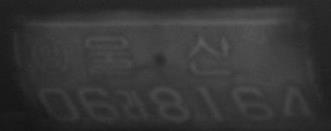0: (37, 87, 80, 121)
1: (192, 84, 229, 122)
4: (282, 85, 316, 125)
6: (231, 84, 272, 122), (80, 84, 119, 123)
8: (150, 86, 191, 123)
라: (120, 88, 149, 121)
영: (30, 36, 71, 74)
울산_D: (83, 33, 232, 78)
